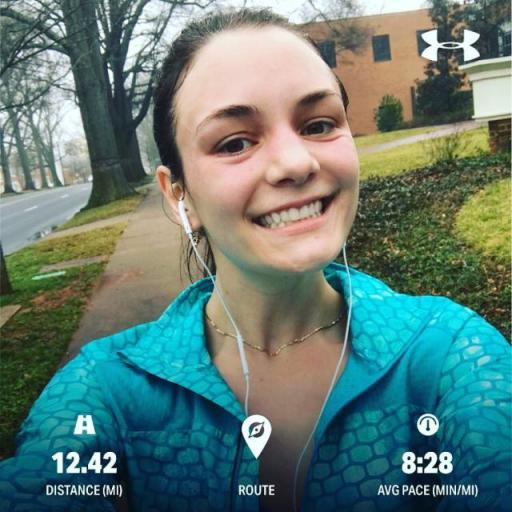Under Armour: (416, 26, 484, 66)
